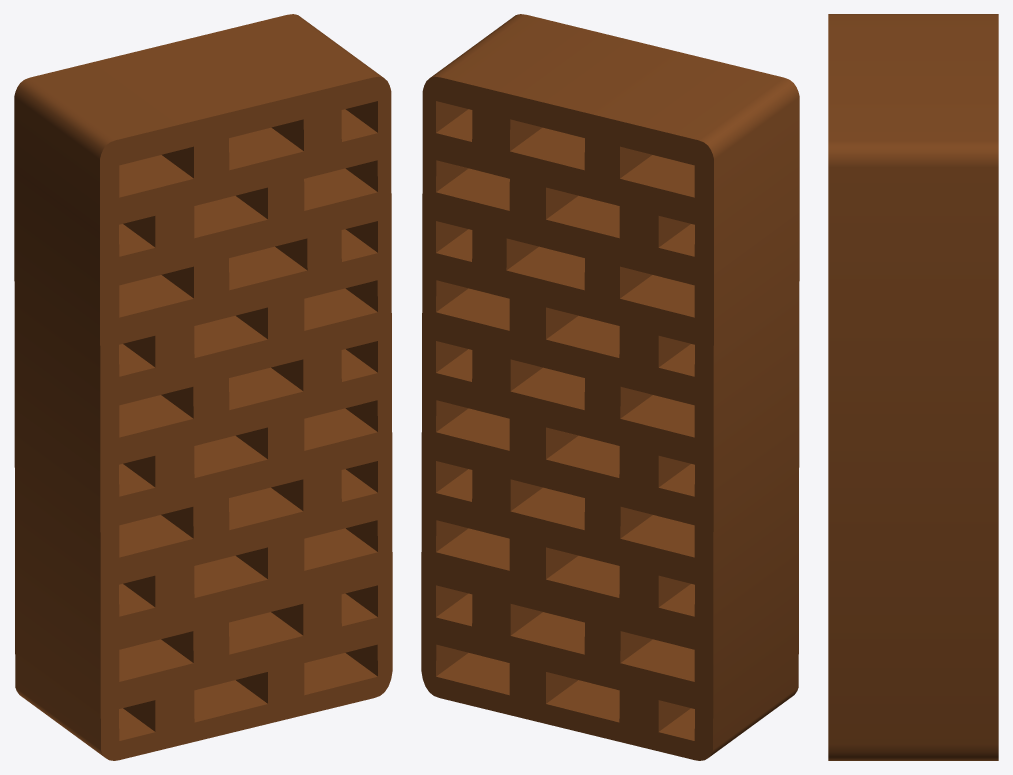
The model's file is brick.fbx.
3 renders of one model, left to right at view 1: azimuth 30°, elevation 25°; view 2: azimuth 150°, elevation 25°; view 3: azimuth 270°, elevation 25°, orthographic.
Parts seen in each view (by area): view 1: brick; view 2: brick; view 3: brick.
Boxes of the visible parts, x1,y1,x2,y2 form: brick: [14, 14, 392, 760]; brick: [421, 14, 799, 760]; brick: [828, 14, 998, 760].
Bounding box in the file's own units: 0.4498 × 0.9109 × 0.2278.
Materials: 1 (1 with a texture image).
